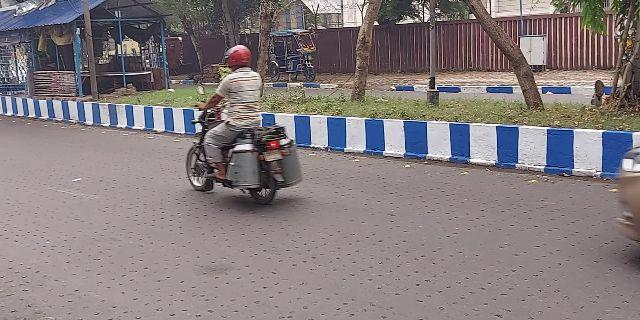Motorbike: (183, 43, 309, 207)
